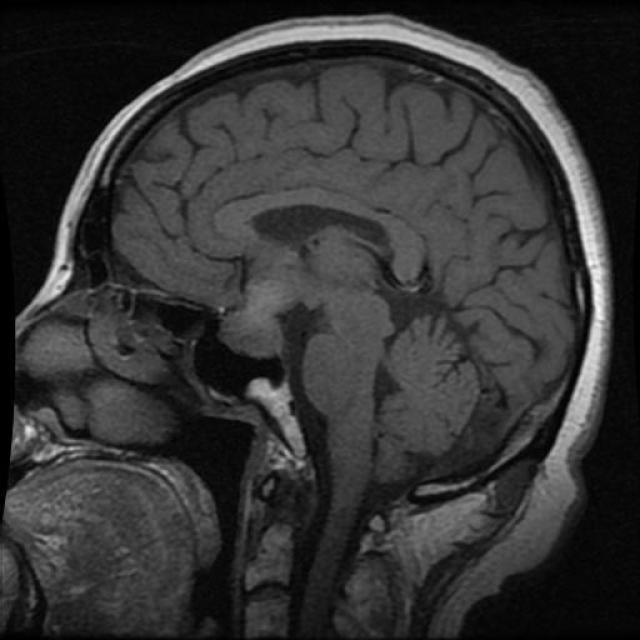pituitary: (244, 340, 320, 472)
